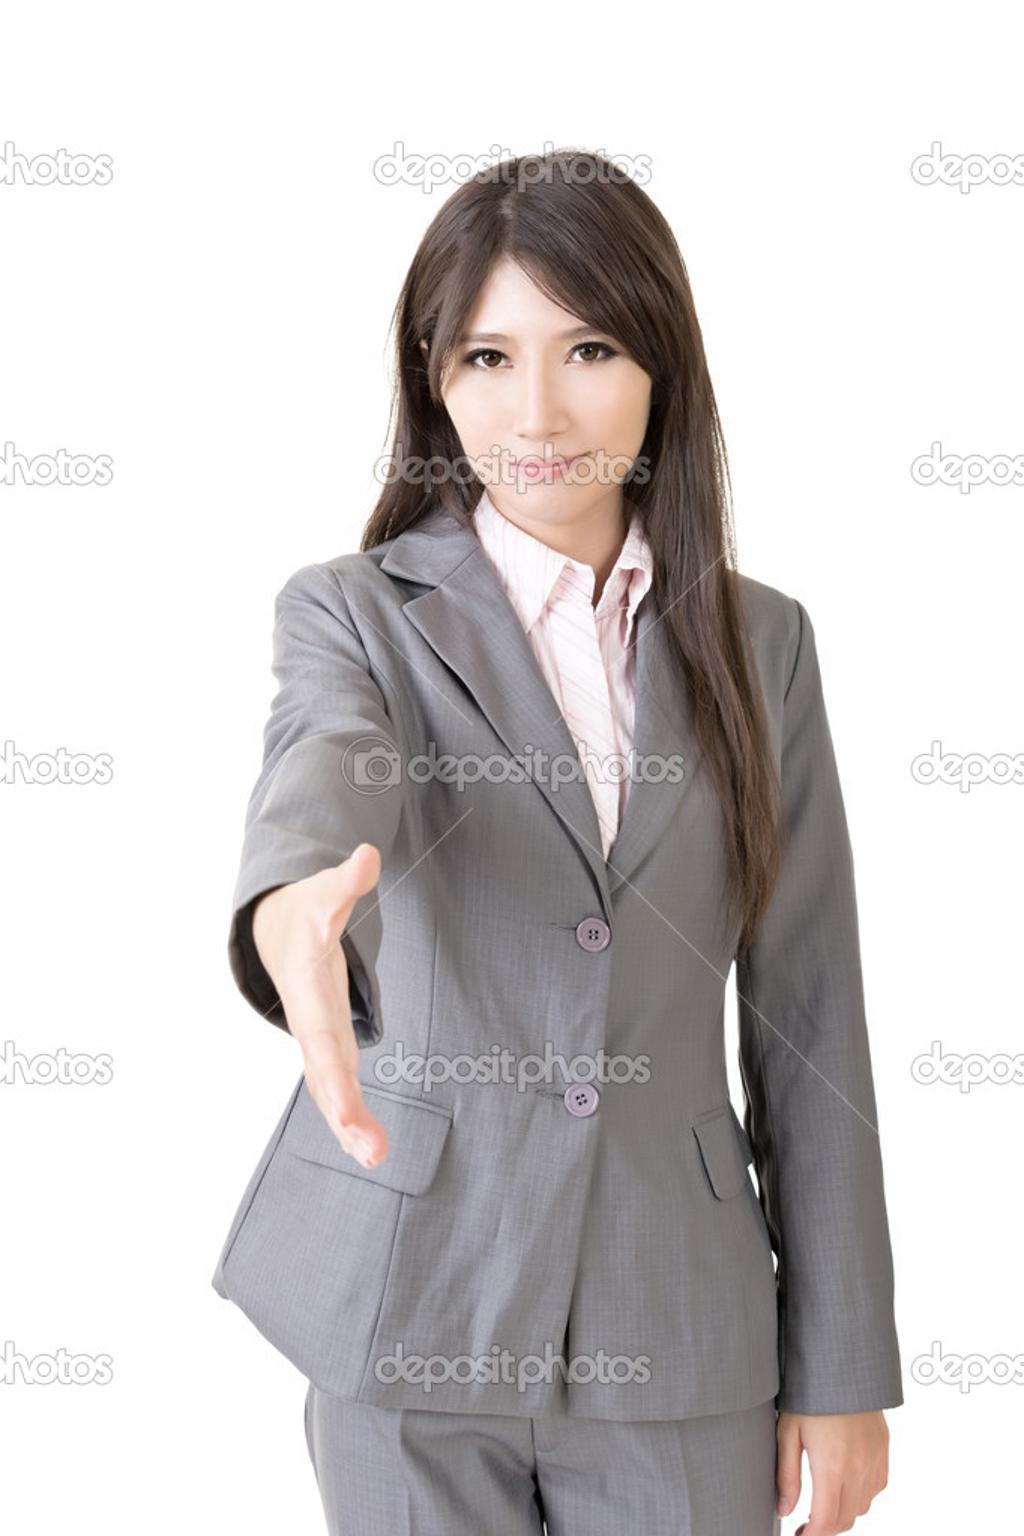face: (433, 211, 655, 523)
